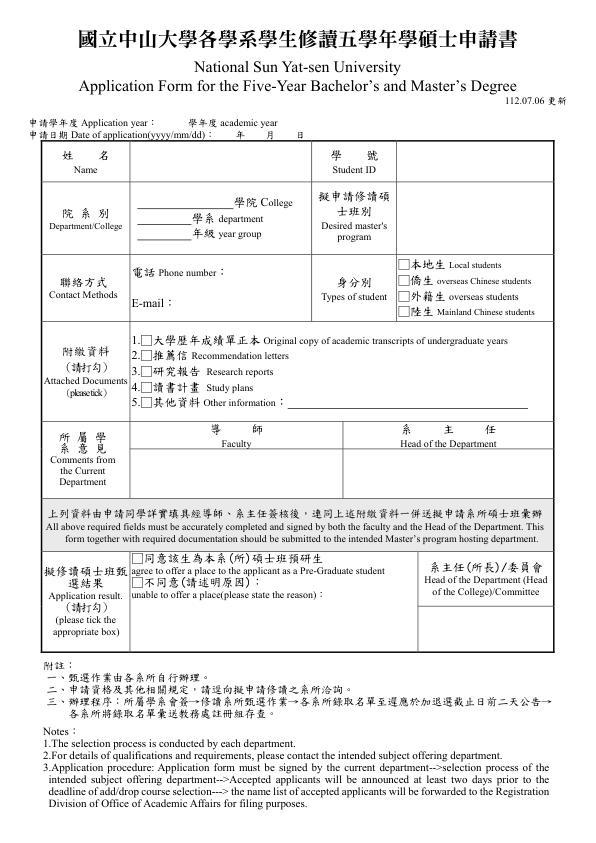table: (38, 137, 558, 656)
text: (41, 727, 555, 815), (42, 671, 561, 723), (73, 59, 522, 93), (73, 26, 526, 52), (28, 115, 307, 140), (504, 95, 568, 107), (41, 661, 75, 672)
